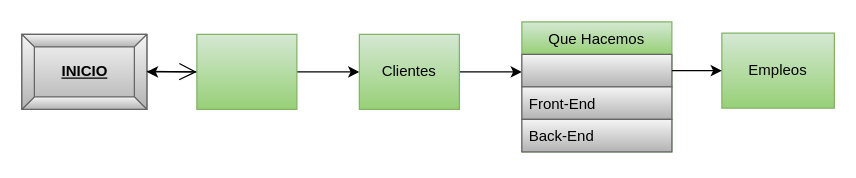
This 856x178 diagram has some shape labels left out. Here are the shapes that lost their labels. From the top down, the centre of each, then its label:
At (x=246, y=71): "Nosotros".
At (x=596, y=70): "Servicios".
